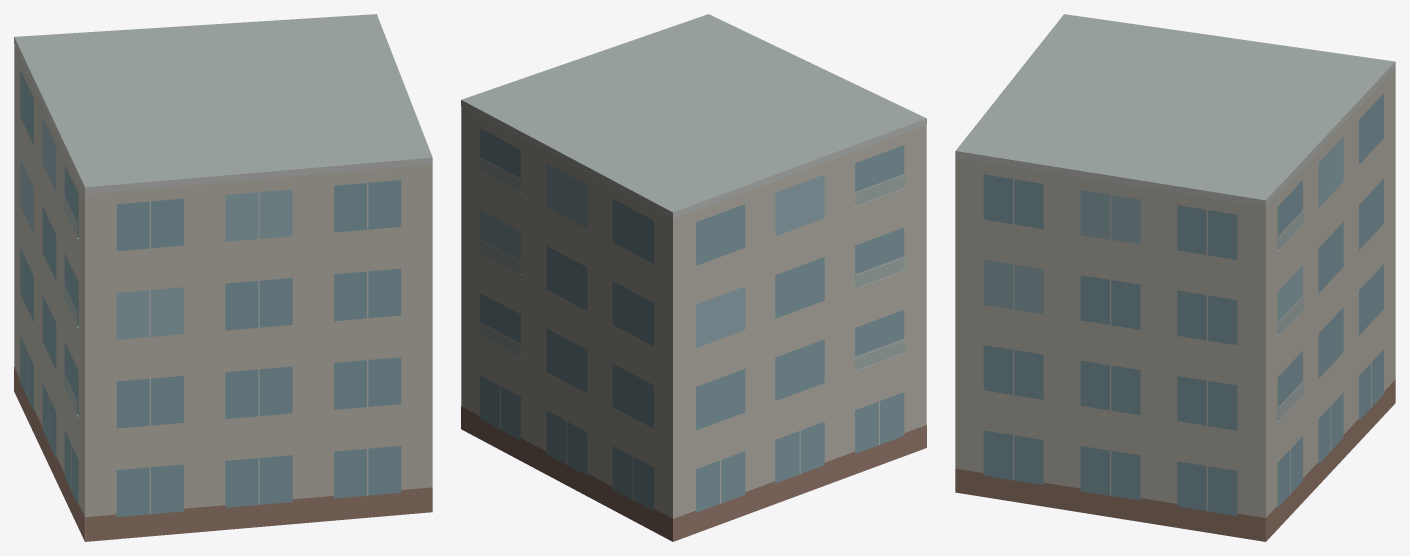
Rendered from survey-upis-32944974.glb.
The picture shows the model from 3 angles, left to right: view 1: azimuth 30°, elevation 25°; view 2: azimuth 150°, elevation 25°; view 3: azimuth 270°, elevation 25°; orthographic projection. The views are drawn at different scales.
Visible parts, largest first — view 1: survey-upis-32944974.tmp; view 2: survey-upis-32944974.tmp; view 3: survey-upis-32944974.tmp.
Part boxes in pixels (bbox=[...]): survey-upis-32944974.tmp: bbox=[14, 14, 432, 541]; survey-upis-32944974.tmp: bbox=[461, 14, 926, 541]; survey-upis-32944974.tmp: bbox=[955, 14, 1395, 541].
Size of the model in its own units: 14.52 by 12.4 by 14.49.
